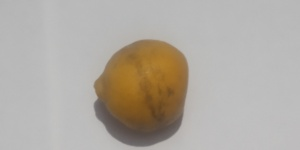BAD: (94, 37, 190, 132)
